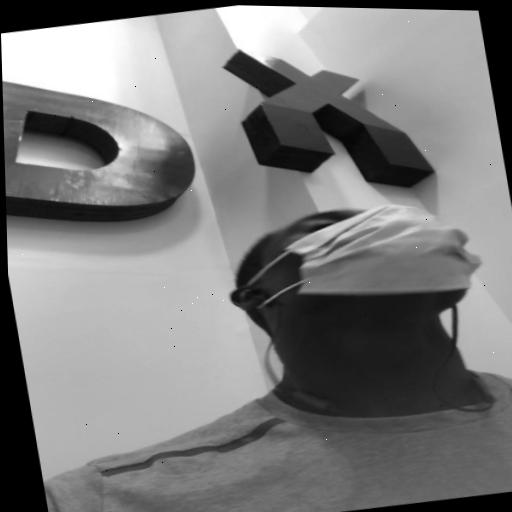mask: (242, 186, 492, 339)
